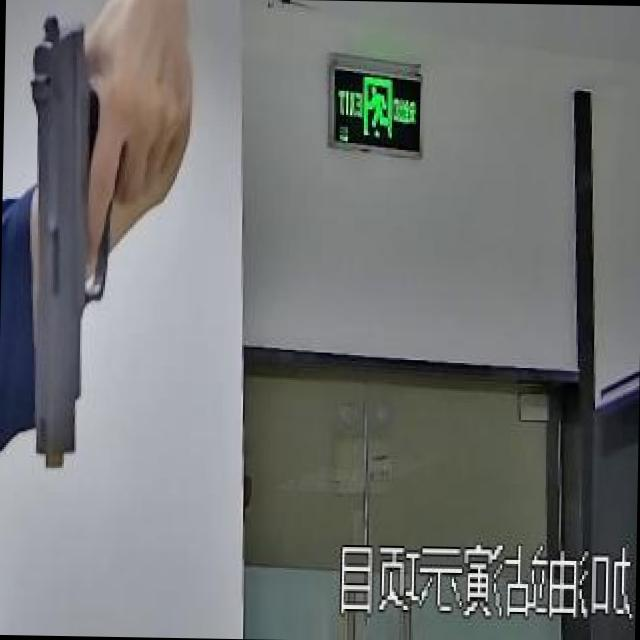Guns: (0, 0, 157, 513)
